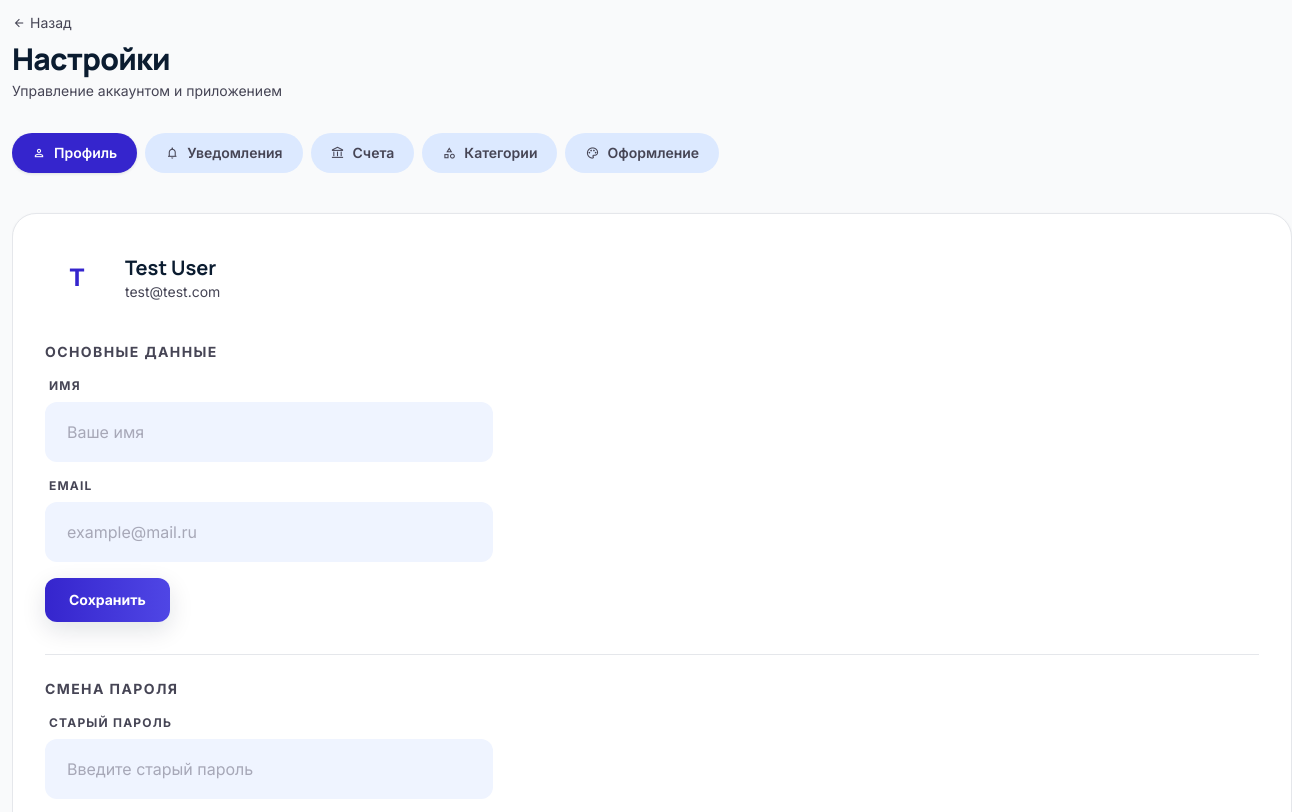
Settings › switches to categories tab and shows category management
Expected: the heading "Настройки" is shown, [12,38,170,79]
Click the button "Категории" at (490, 153), box [422,133,558,173]
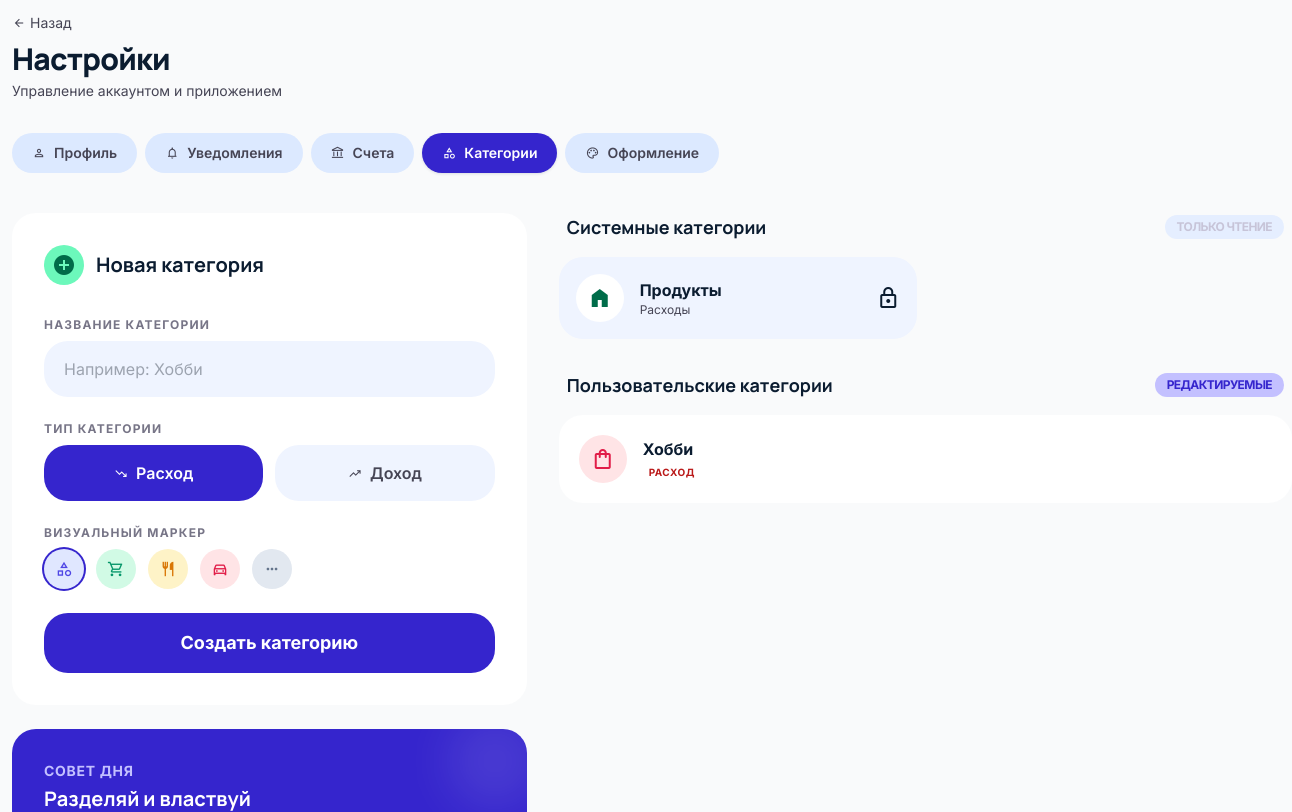
Expected: the heading "Новая категория" is shown, [96,251,264,279]
Expected: the heading "Системные категории" is shown, [567,213,766,241]
Expected: the heading "Пользовательские категории" is shown, [567,371,833,399]
